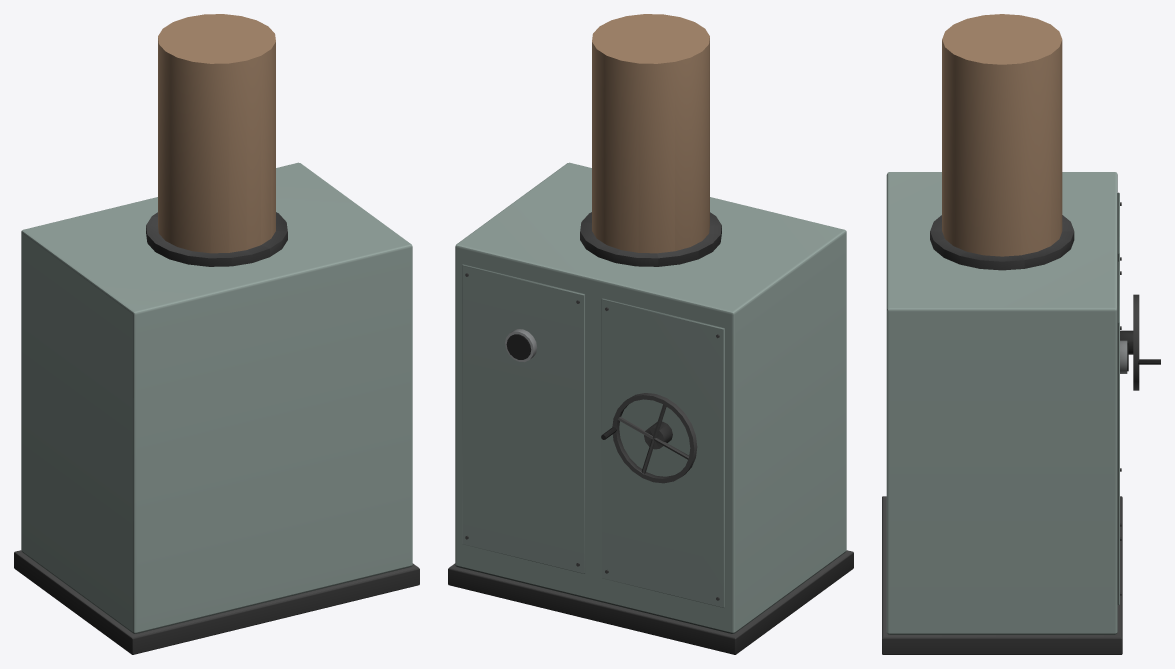
The model's file is filter_unit.glb.
3 views of the same model, side by side, from view 1: azimuth 30°, elevation 25°; view 2: azimuth 150°, elevation 25°; view 3: azimuth 270°, elevation 25° (orthographic).
Visible parts, largest first — view 1: static; view 2: static; view 3: static.
Boxes of the visible parts, x1,y1,x2,y2 form: static: (14, 14, 419, 654); static: (448, 14, 853, 654); static: (882, 14, 1160, 654).
Bounding box in the file's own units: 1.4 × 2.5 × 1.16.
